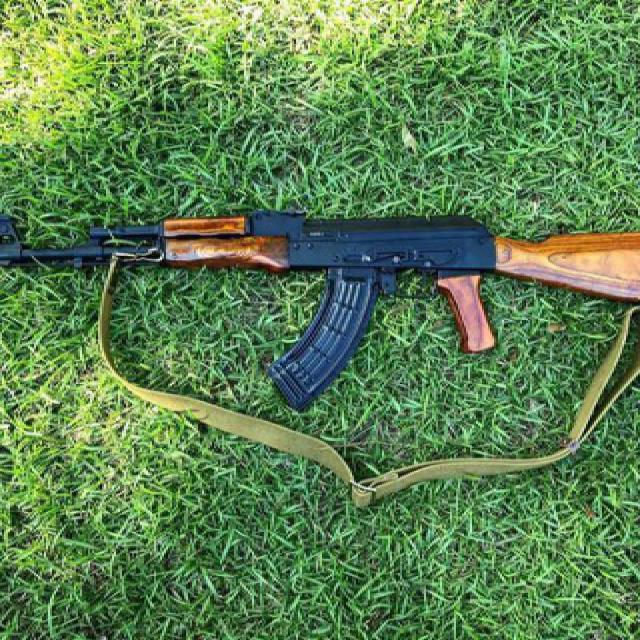long weapon: (2, 190, 638, 407)
